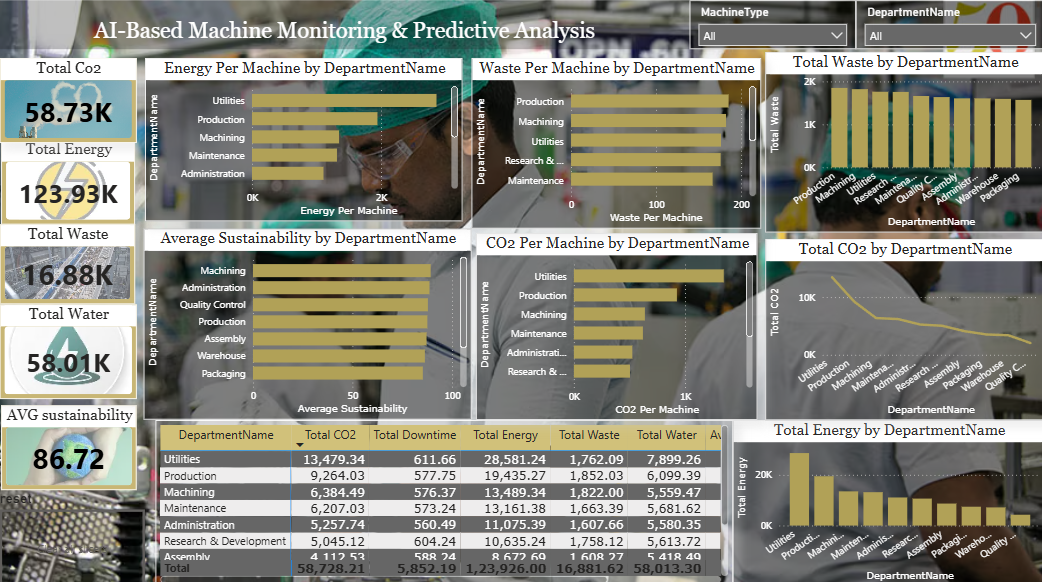

What the dashboard file says about the page in this screenshot:
{"tool":"powerbi","page":{"name":"Department Intelligence","canvas":[1280,720],"ordinal":2},"visuals":[{"type":"textbox","box":[0,0,640.4,59.6],"z":0},{"type":"slicer","fields":{"Values":["vw_IndustrialDashboard.DepartmentName"]},"box":[1048.9,0,231.9,59.6],"z":1000},{"type":"slicer","fields":{"Values":["vw_IndustrialDashboard.MachineType"]},"box":[844.7,0,204.3,59.6],"z":2000},{"type":"cardVisual","title":"AVG sustainability","fields":{"Data":["Departments.Average Sustainability"]},"box":[2,496,166,104],"z":3000},{"type":"cardVisual","title":"Total Energy","fields":{"Data":["Departments.Total Energy"]},"box":[2,170,164,104],"z":4000},{"type":"cardVisual","title":"Total Co2","fields":{"Data":["Departments.Total CO2"]},"box":[0,70,168,104],"z":5000},{"type":"cardVisual","title":"Total Waste","fields":{"Data":["Departments.Total Waste"]},"box":[0,274,166,98],"z":6000},{"type":"cardVisual","title":"Total Water","fields":{"Data":["Departments.Total Water"]},"box":[0,372,168,116],"z":7000},{"type":"clusteredBarChart","fields":{"Y":["Departments.Average Sustainability"],"Category":["vw_IndustrialDashboard.DepartmentName"]},"box":[176,280,402,234],"z":8000},{"type":"clusteredColumnChart","fields":{"Category":["vw_IndustrialDashboard.DepartmentName"],"Y":["Departments.Total Energy"]},"box":[897.9,514.9,383,204.3],"z":9000},{"type":"clusteredColumnChart","fields":{"Y":["Departments.Total Waste"],"Category":["vw_IndustrialDashboard.DepartmentName"]},"box":[938.3,63.8,342.6,221.3],"z":10000},{"type":"lineChart","fields":{"Category":["vw_IndustrialDashboard.DepartmentName"],"Y":["Departments.Total CO2"]},"box":[923.4,300,357.4,214.9],"z":11000},{"type":"pivotTable","fields":{"Rows":["vw_IndustrialDashboard.DepartmentName"],"Values":["Departments.Total CO2","Departments.Total Downtime","Departments.Total Energy","Departments.Total Waste","Departments.Total Water","Departments.Average Sustainability"]},"box":[190,514,708,206],"z":12000},{"type":"barChart","fields":{"Category":["vw_IndustrialDashboard.DepartmentName"],"Y":["vw_IndustrialDashboard.Energy Per Machine"]},"box":[178.7,70.2,389.4,200],"z":13000},{"type":"barChart","fields":{"Category":["vw_IndustrialDashboard.DepartmentName"],"Y":["vw_IndustrialDashboard.CO2 Per Machine"]},"box":[578.7,300,344.7,214.9],"z":14000},{"type":"barChart","fields":{"Category":["vw_IndustrialDashboard.DepartmentName"],"Y":["vw_IndustrialDashboard.Waste Per Machine"]},"box":[568.1,63.8,363.8,221.3],"z":15000},{"type":"cardVisual","title":"Machine Health","fields":{"Data":["vw_IndustrialDashboard.Department Health"]},"box":[640.4,0,204.3,59.6],"z":16000},{"type":"actionButton","title":"reset","box":[0,600,178,120],"z":17000}]}

Visuals, with their boxes in screenshot pixels (x1, y1, x2, y2), scaled from the page's 1280x720 canvas onto the 1042x582 screenshot:
textbox: <region>0, 0, 521, 48</region>
slicer - vw_IndustrialDashboard.DepartmentName: <region>854, 0, 1041, 48</region>
slicer - vw_IndustrialDashboard.MachineType: <region>688, 0, 854, 48</region>
"AVG sustainability" cardVisual: <region>2, 401, 137, 485</region>
"Total Energy" cardVisual: <region>2, 137, 135, 221</region>
"Total Co2" cardVisual: <region>0, 57, 137, 141</region>
"Total Waste" cardVisual: <region>0, 221, 135, 301</region>
"Total Water" cardVisual: <region>0, 301, 137, 394</region>
clusteredBarChart - Departments.Average Sustainability x vw_IndustrialDashboard.DepartmentName: <region>143, 226, 471, 415</region>
clusteredColumnChart - vw_IndustrialDashboard.DepartmentName x Departments.Total Energy: <region>731, 416, 1041, 581</region>
clusteredColumnChart - Departments.Total Waste x vw_IndustrialDashboard.DepartmentName: <region>764, 52, 1041, 230</region>
lineChart - vw_IndustrialDashboard.DepartmentName x Departments.Total CO2: <region>752, 242, 1041, 416</region>
pivotTable - vw_IndustrialDashboard.DepartmentName x Departments.Total CO2: <region>155, 415, 731, 581</region>
barChart - vw_IndustrialDashboard.DepartmentName x vw_IndustrialDashboard.Energy Per Machine: <region>145, 57, 462, 218</region>
barChart - vw_IndustrialDashboard.DepartmentName x vw_IndustrialDashboard.CO2 Per Machine: <region>471, 242, 752, 416</region>
barChart - vw_IndustrialDashboard.DepartmentName x vw_IndustrialDashboard.Waste Per Machine: <region>462, 52, 759, 230</region>
"Machine Health" cardVisual: <region>521, 0, 688, 48</region>
"reset" actionButton: <region>0, 485, 145, 581</region>
